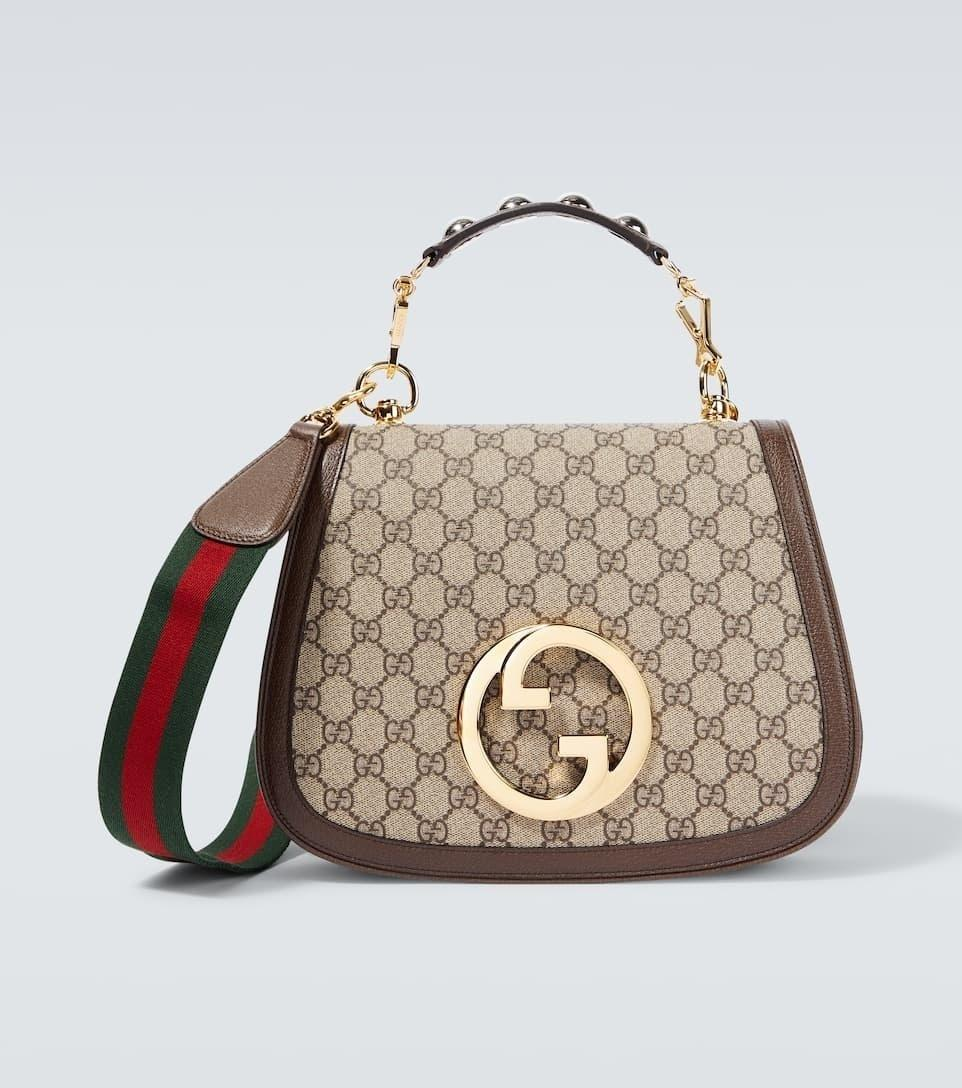GUCCI: (458, 622, 653, 822)
